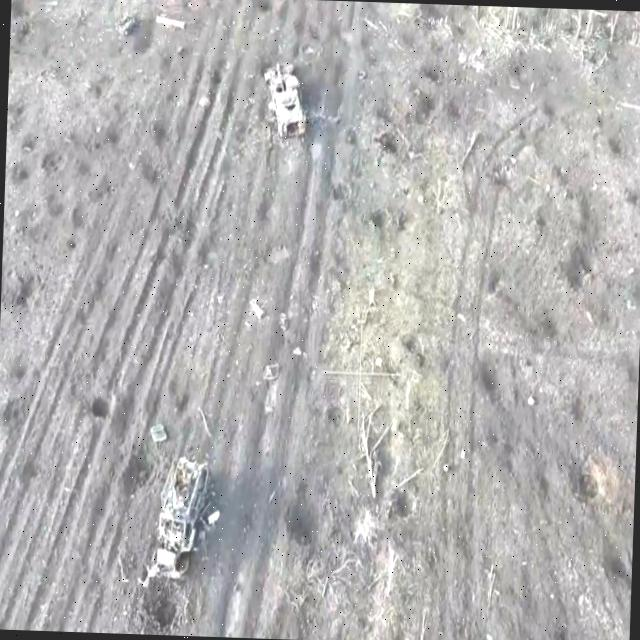Destroyed: (152, 459, 215, 582), (272, 68, 306, 139)
